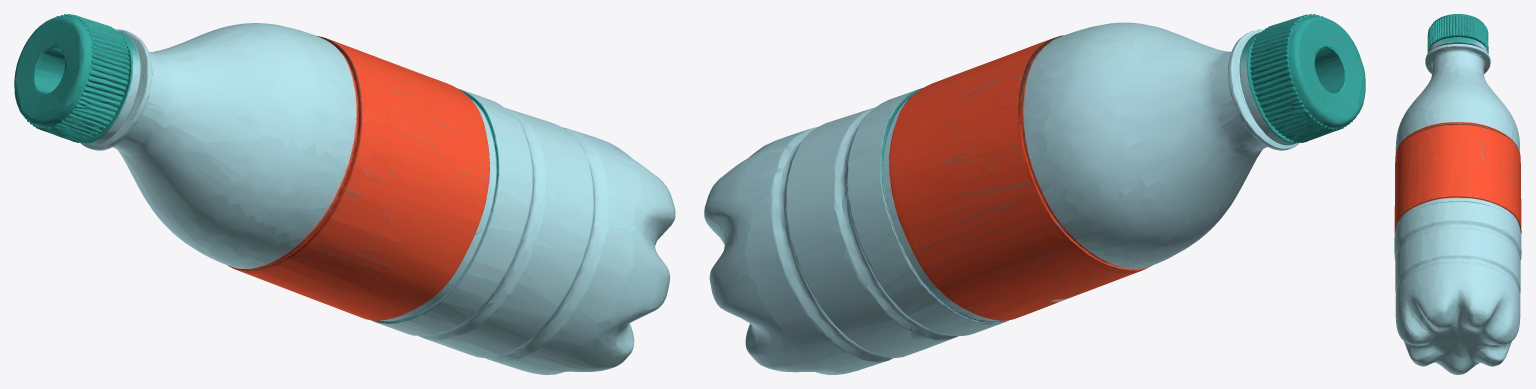
The model's file is botella.glb.
The picture shows the model from 3 angles, left to right: view 1: azimuth 30°, elevation 25°; view 2: azimuth 150°, elevation 25°; view 3: azimuth 270°, elevation 25°; orthographic projection. The views are drawn at different scales.
Bounding box in the file's own units: 1.9 × 1.36 × 0.6531.
1 material, 1 textured.
